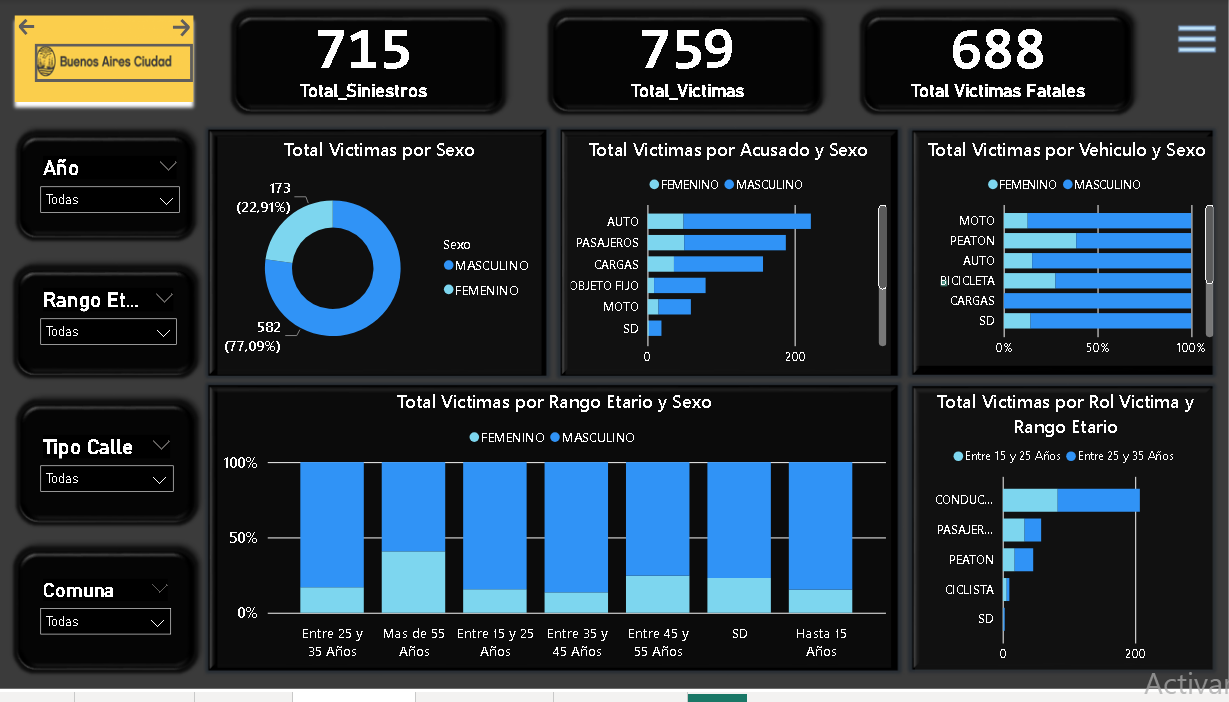

What the dashboard file says about the page in this screenshot:
{"tool":"powerbi","page":{"name":"Victima","canvas":[1280,720],"ordinal":3},"visuals":[{"type":"donutChart","title":"Total Victimas por Sexo","fields":{"Category":["Siniestros Viales.Sexo"],"Y":["Medidas.Total_Victimas"]},"box":[226.5,142.1,337.4,248.3],"z":0},{"type":"hundredPercentStackedBarChart","title":"Total Victimas por Vehiculo y Sexo","fields":{"Category":["Siniestros Viales.Victima","Siniestros Viales.Rol_Victima"],"Y":["Medidas.Total_Victimas"],"Series":["Siniestros Viales.Sexo"]},"box":[952.7,142.1,315.5,239],"z":1000},{"type":"barChart","title":"Total Victimas por Acusado y Sexo","fields":{"Category":["Siniestros Viales.Acusado"],"Y":["Medidas.Total_Victimas"],"Series":["Siniestros Viales.Sexo"]},"box":[588.8,142.1,338.9,248.3],"z":2000},{"type":"hundredPercentStackedColumnChart","title":"Total Victimas por Rango Etario y Sexo","fields":{"Category":["Siniestros Viales.Rango Etario"],"Y":["Medidas.Total_Victimas"],"Series":["Siniestros Viales.Sexo"]},"box":[226.5,404.5,701.3,290.5],"z":3000},{"type":"barChart","title":"Total Victimas por Rol Victima y Rango Etario","fields":{"Category":["Siniestros Viales.Rol_Victima"],"Y":["Medidas.Total_Victimas"],"Series":["Siniestros Viales.Rango Etario"]},"box":[952.7,404.5,313.9,295.2],"z":4000},{"type":"slicer","fields":{"Values":["Siniestros Viales.Año_Hechos"]},"box":[18.3,141.7,193.3,108.3],"z":5000},{"type":"card","fields":{"Values":["Medidas.Total_Siniestros"]},"box":[240,0,274.3,120],"z":6000},{"type":"slicer","fields":{"Values":["Siniestros Viales.Edad"]},"box":[18.3,280,190,111.7],"z":7000},{"type":"card","fields":{"Values":["Medidas.Total_Victimas"]},"box":[578.6,0,274.3,120],"z":8000},{"type":"card","fields":{"Values":["Medidas.Total_Victimas_Fatales"]},"box":[901.4,0,275.7,120],"z":9000},{"type":"slicer","fields":{"Values":["Siniestros Viales.Participantes"]},"box":[18.3,578.3,185,111.7],"z":10000},{"type":"slicer","fields":{"Values":["Siniestros Viales.Victima"]},"box":[18.3,433.3,186.7,115],"z":11000}]}

Visuals, with their boxes in screenshot pixels (x1, y1, x2, y2), scaled from the page's 1280x720 canvas onto the 1229x702 screenshot:
"Total Victimas por Sexo" donutChart: <region>217, 139, 541, 381</region>
"Total Victimas por Vehiculo y Sexo" hundredPercentStackedBarChart: <region>915, 139, 1218, 372</region>
"Total Victimas por Acusado y Sexo" barChart: <region>565, 139, 891, 381</region>
"Total Victimas por Rango Etario y Sexo" hundredPercentStackedColumnChart: <region>217, 394, 891, 678</region>
"Total Victimas por Rol Victima y Rango Etario" barChart: <region>915, 394, 1216, 682</region>
slicer - Siniestros Viales.Año_Hechos: <region>18, 138, 203, 244</region>
card - Medidas.Total_Siniestros: <region>230, 0, 494, 117</region>
slicer - Siniestros Viales.Edad: <region>18, 273, 200, 382</region>
card - Medidas.Total_Victimas: <region>556, 0, 819, 117</region>
card - Medidas.Total_Victimas_Fatales: <region>865, 0, 1130, 117</region>
slicer - Siniestros Viales.Participantes: <region>18, 564, 195, 673</region>
slicer - Siniestros Viales.Victima: <region>18, 422, 197, 535</region>
